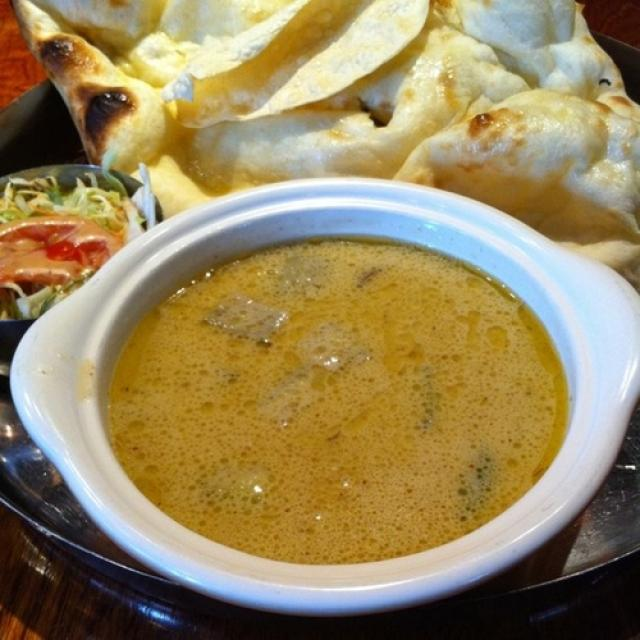牛肉菜式: (12, 0, 612, 630)
